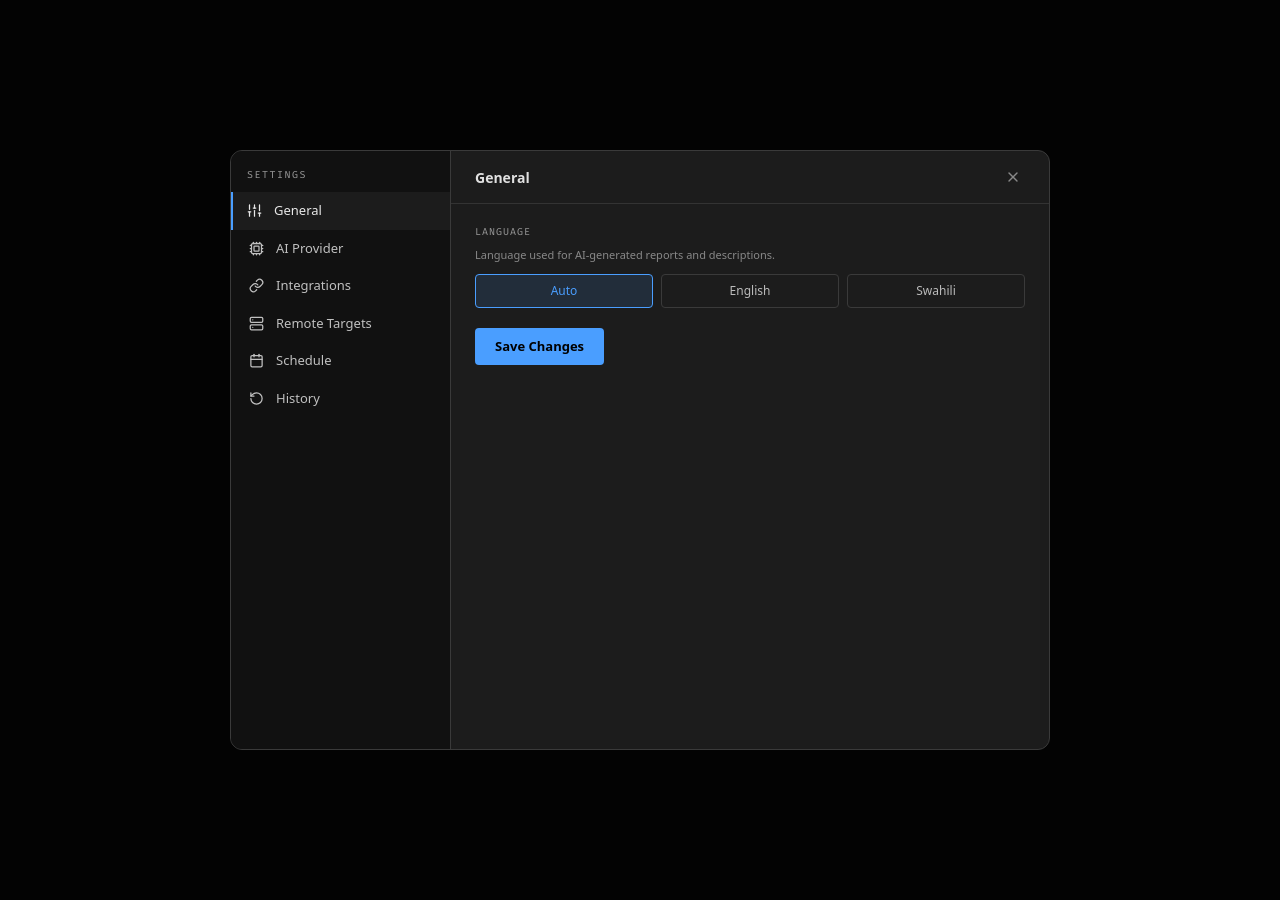
Test: SettingsModal nav › switches to Integrations section
This screenshot has width=1280, height=900.
Click the button "Integrations" at (340,286), box [231, 267, 450, 304]
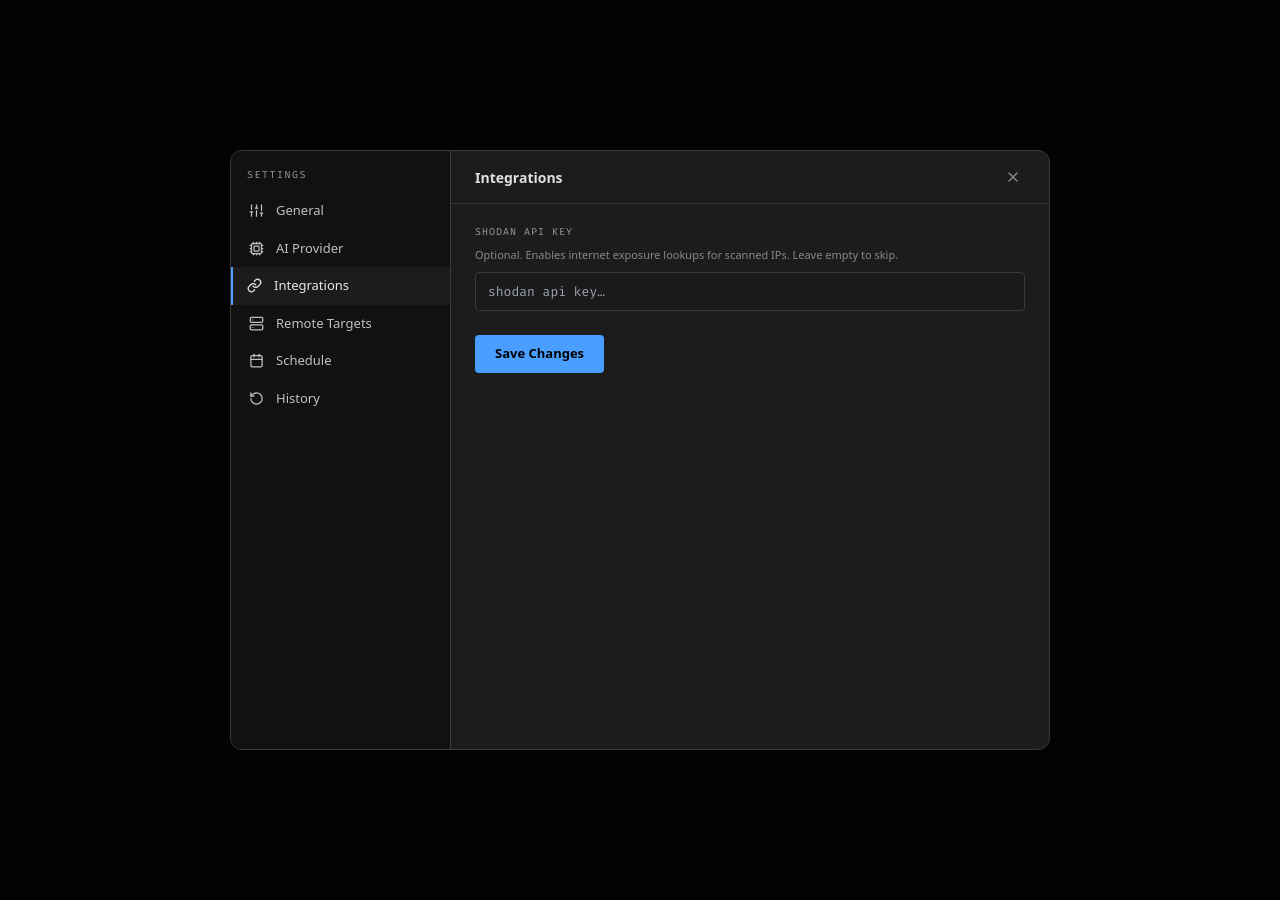
Now the password field with placeholder "shodan api key…" is shown, box [475, 272, 1025, 311]
